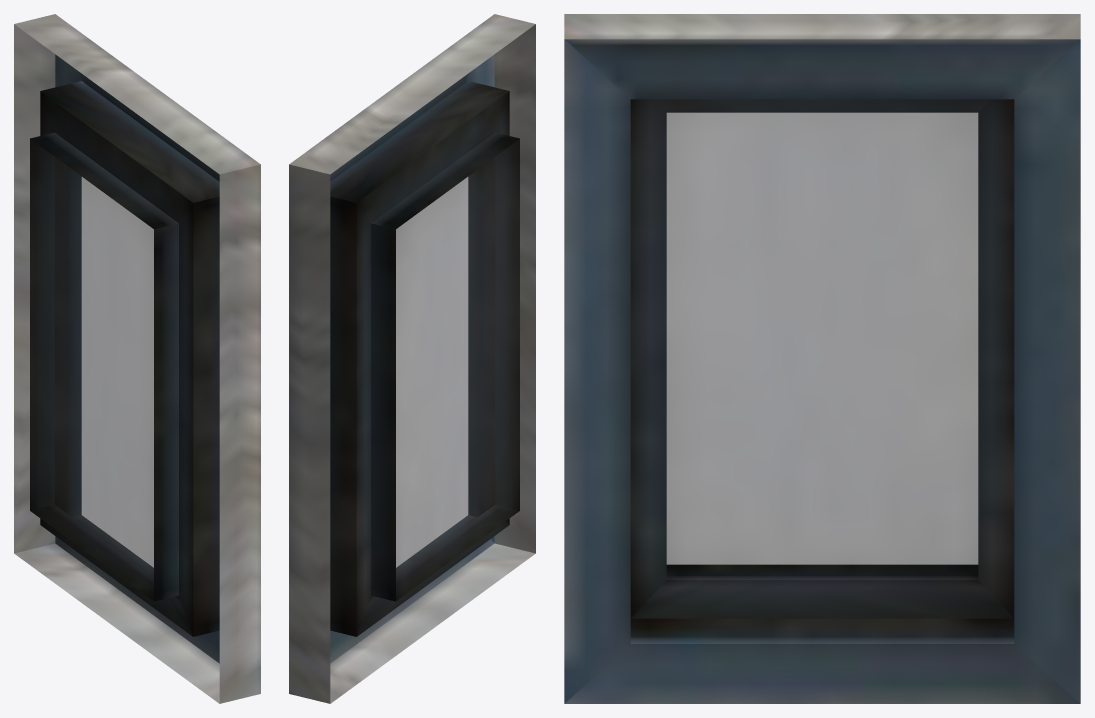
File: SingleSmallWindow.FBX
The picture shows the model from 3 angles, left to right: view 1: azimuth 30°, elevation 25°; view 2: azimuth 150°, elevation 25°; view 3: azimuth 270°, elevation 25°; orthographic projection. The views are drawn at different scales.
Parts seen in each view (by area): view 1: SingleSmallWindow; view 2: SingleSmallWindow; view 3: SingleSmallWindow.
Part boxes in pixels (left/top/right/bottom): SingleSmallWindow: left=14, top=14, right=260, bottom=703; SingleSmallWindow: left=289, top=14, right=535, bottom=703; SingleSmallWindow: left=564, top=14, right=1080, bottom=703.
Size of the model in its own units: 18.02 by 138 by 96.98.
